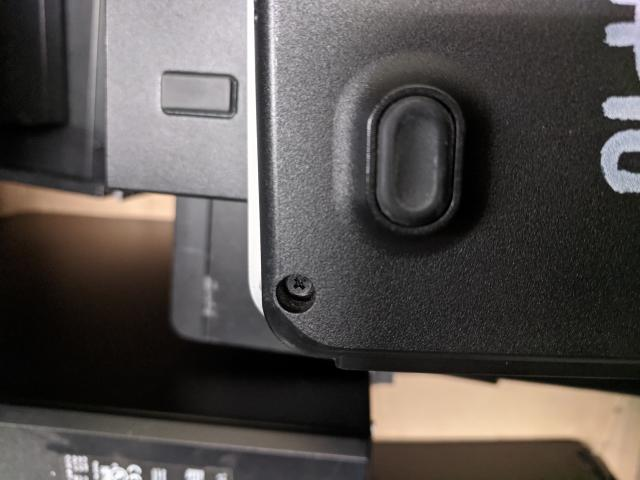CRS: (286, 268, 320, 304)
